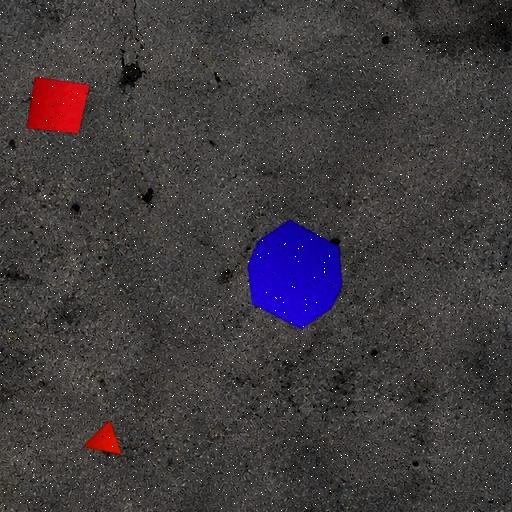RED_SQUARE: (26, 76, 90, 134)
